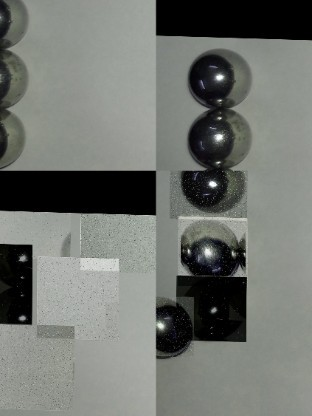ironball: (177, 216, 248, 287), (180, 45, 254, 110), (176, 275, 247, 341), (185, 108, 252, 168), (169, 170, 247, 220), (0, 241, 32, 324), (156, 295, 194, 357), (0, 105, 36, 168), (0, 50, 29, 108), (0, 0, 31, 49)
